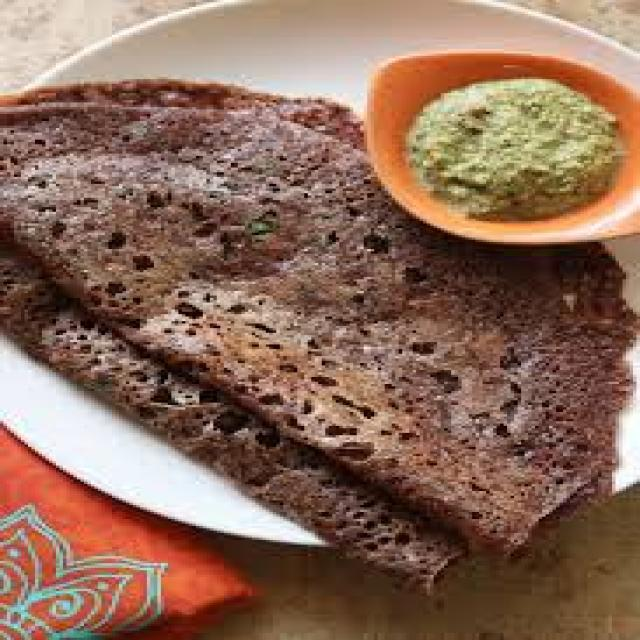DOSA: (0, 78, 637, 596)
